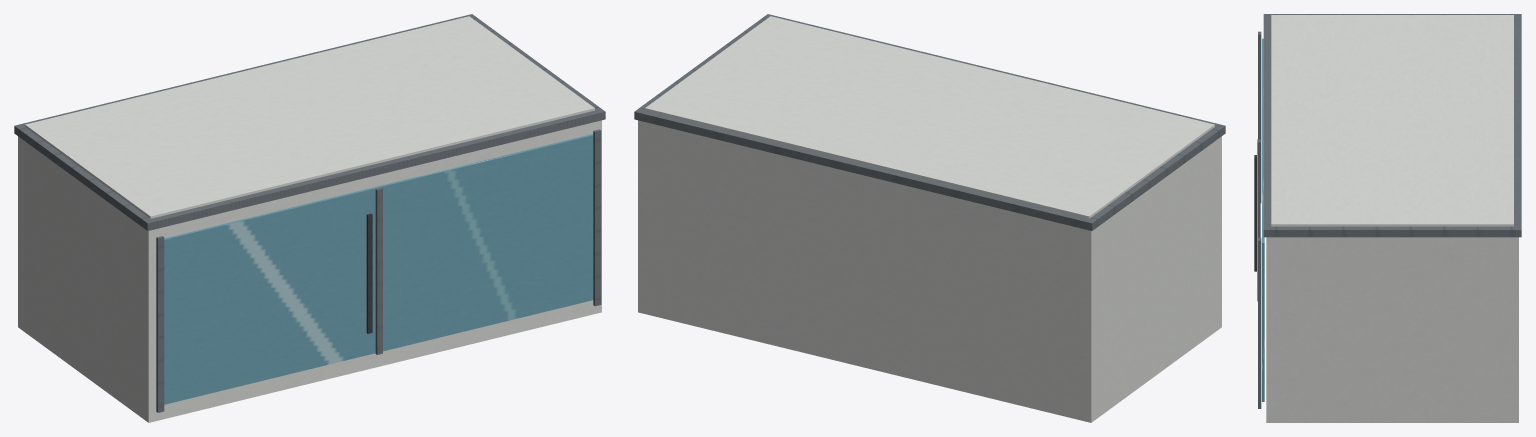
Rendered from Freezer_4x2.obj.
The picture shows the model from 3 angles, left to right: view 1: azimuth 30°, elevation 25°; view 2: azimuth 150°, elevation 25°; view 3: azimuth 270°, elevation 25°; orthographic projection. The views are drawn at different scales.
Parts seen in each view (by area): view 1: Freezer_4x2; view 2: Freezer_4x2; view 3: Freezer_4x2.
Boxes of the visible parts, left/top/right/bottom form: Freezer_4x2: left=14, top=14, right=605, bottom=422; Freezer_4x2: left=634, top=14, right=1225, bottom=422; Freezer_4x2: left=1254, top=14, right=1521, bottom=422.
Size of the model in its own units: 4.04 by 1.72 by 2.12.
Materials: 4 (4 with a texture image).
